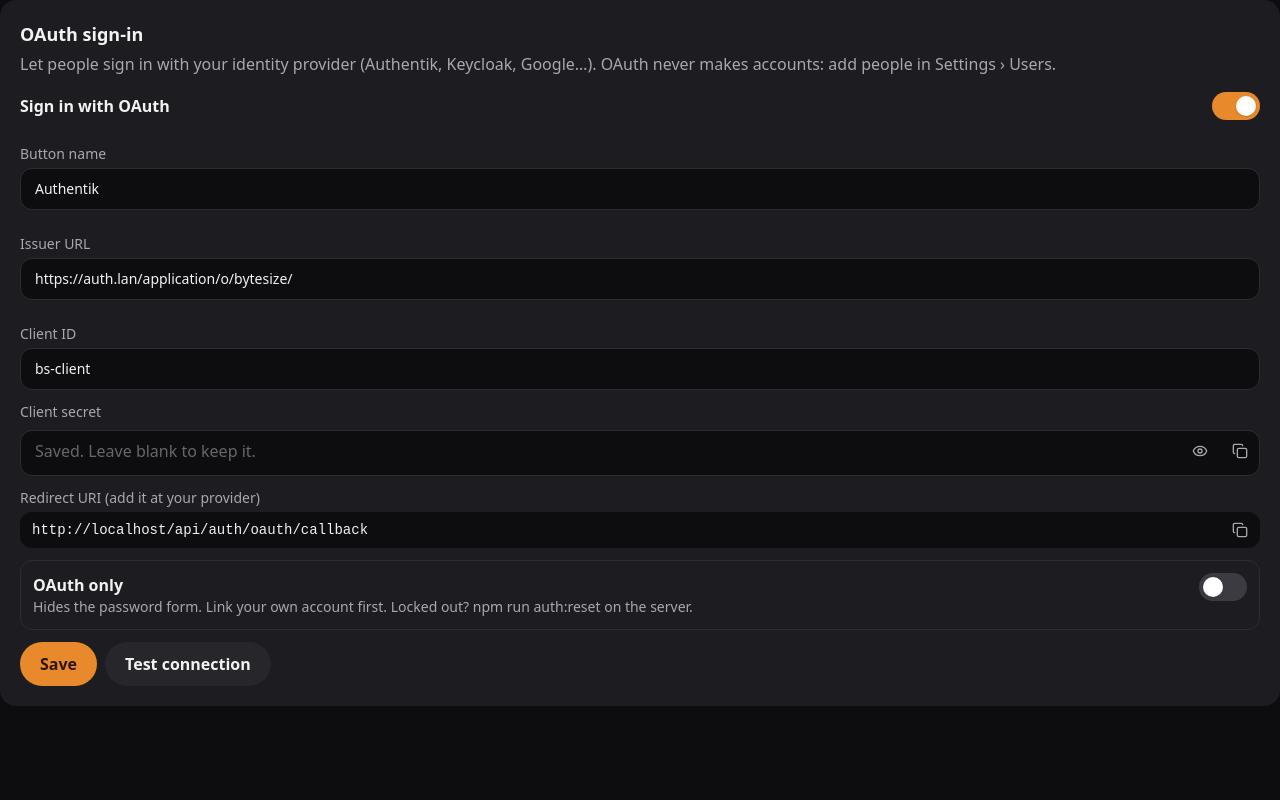
Test: Settings › Security › OAuth sign-in (admin) › OAuth only: the server's refusal (link your account first) is shown
Click the switch named "OAuth only".
click(1223, 587)  # box 1199,573 -> 1247,601
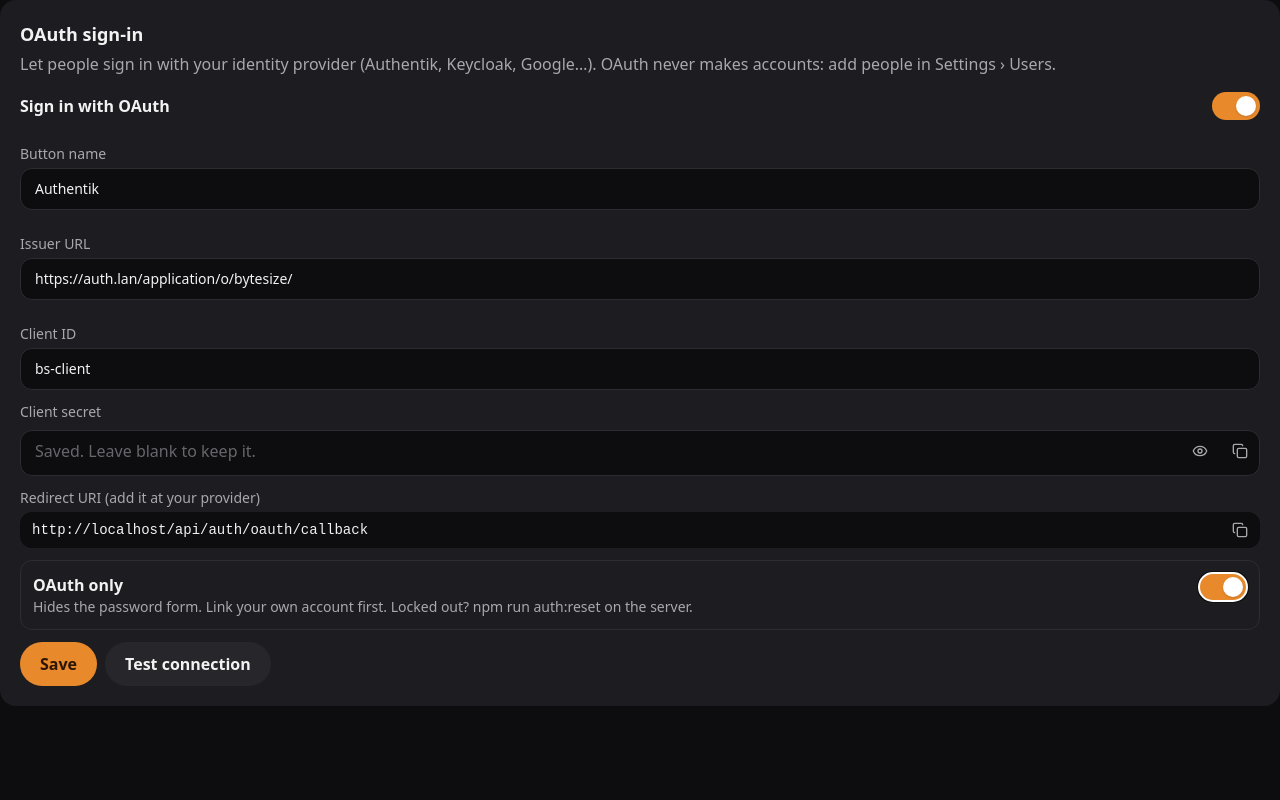
Click the button "Save".
click(58, 664)  # box 20,642 -> 97,686
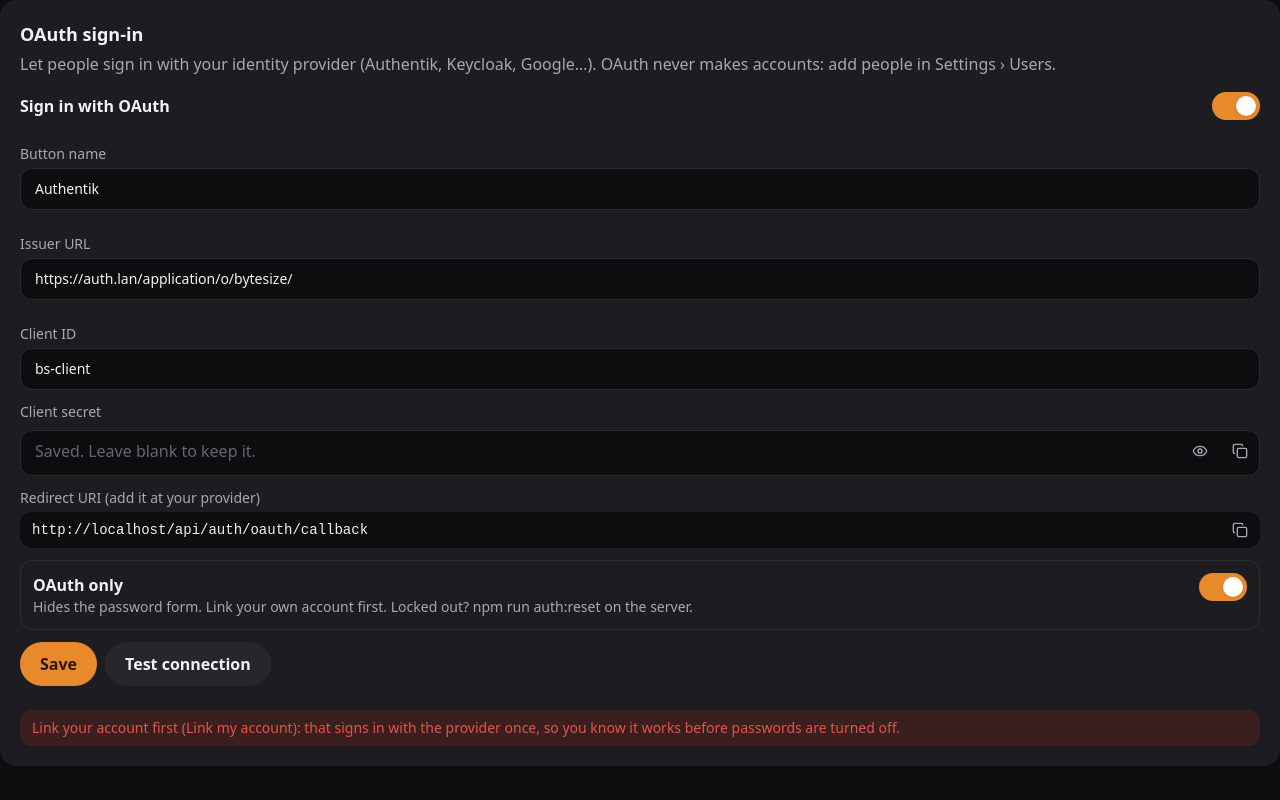
Check: the message shows "Link your account first", box 32,718 -> 900,737
